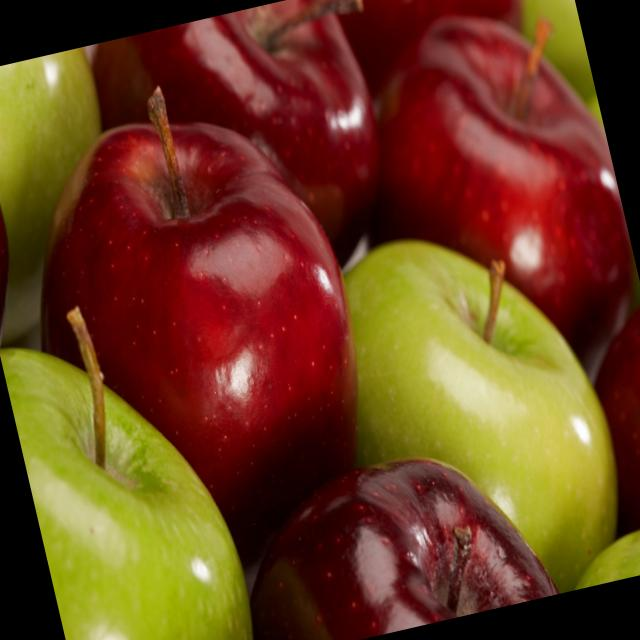apple: (4, 90, 406, 573), (80, 0, 415, 347), (350, 0, 640, 379)
